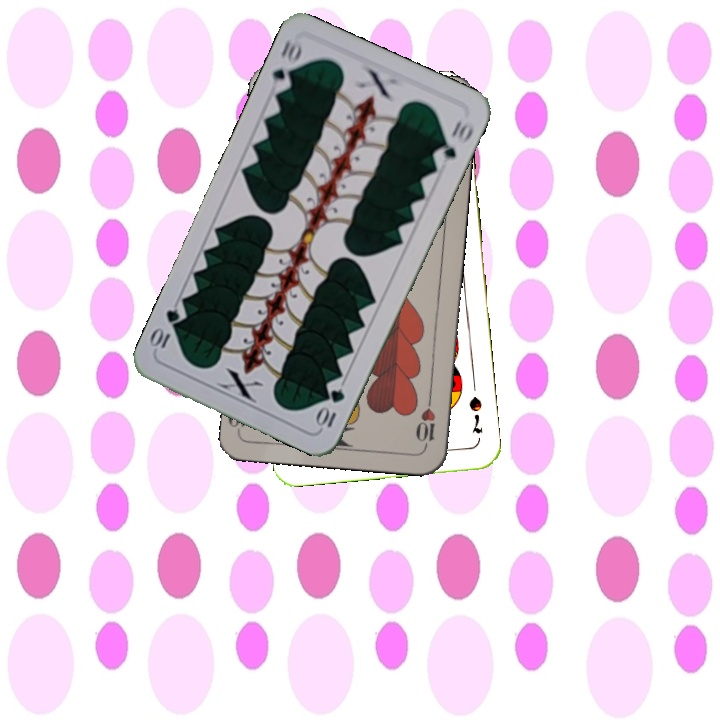G10: (267, 35, 305, 95), (313, 384, 348, 431)
H10: (413, 390, 438, 450)
S7: (465, 392, 486, 437)
